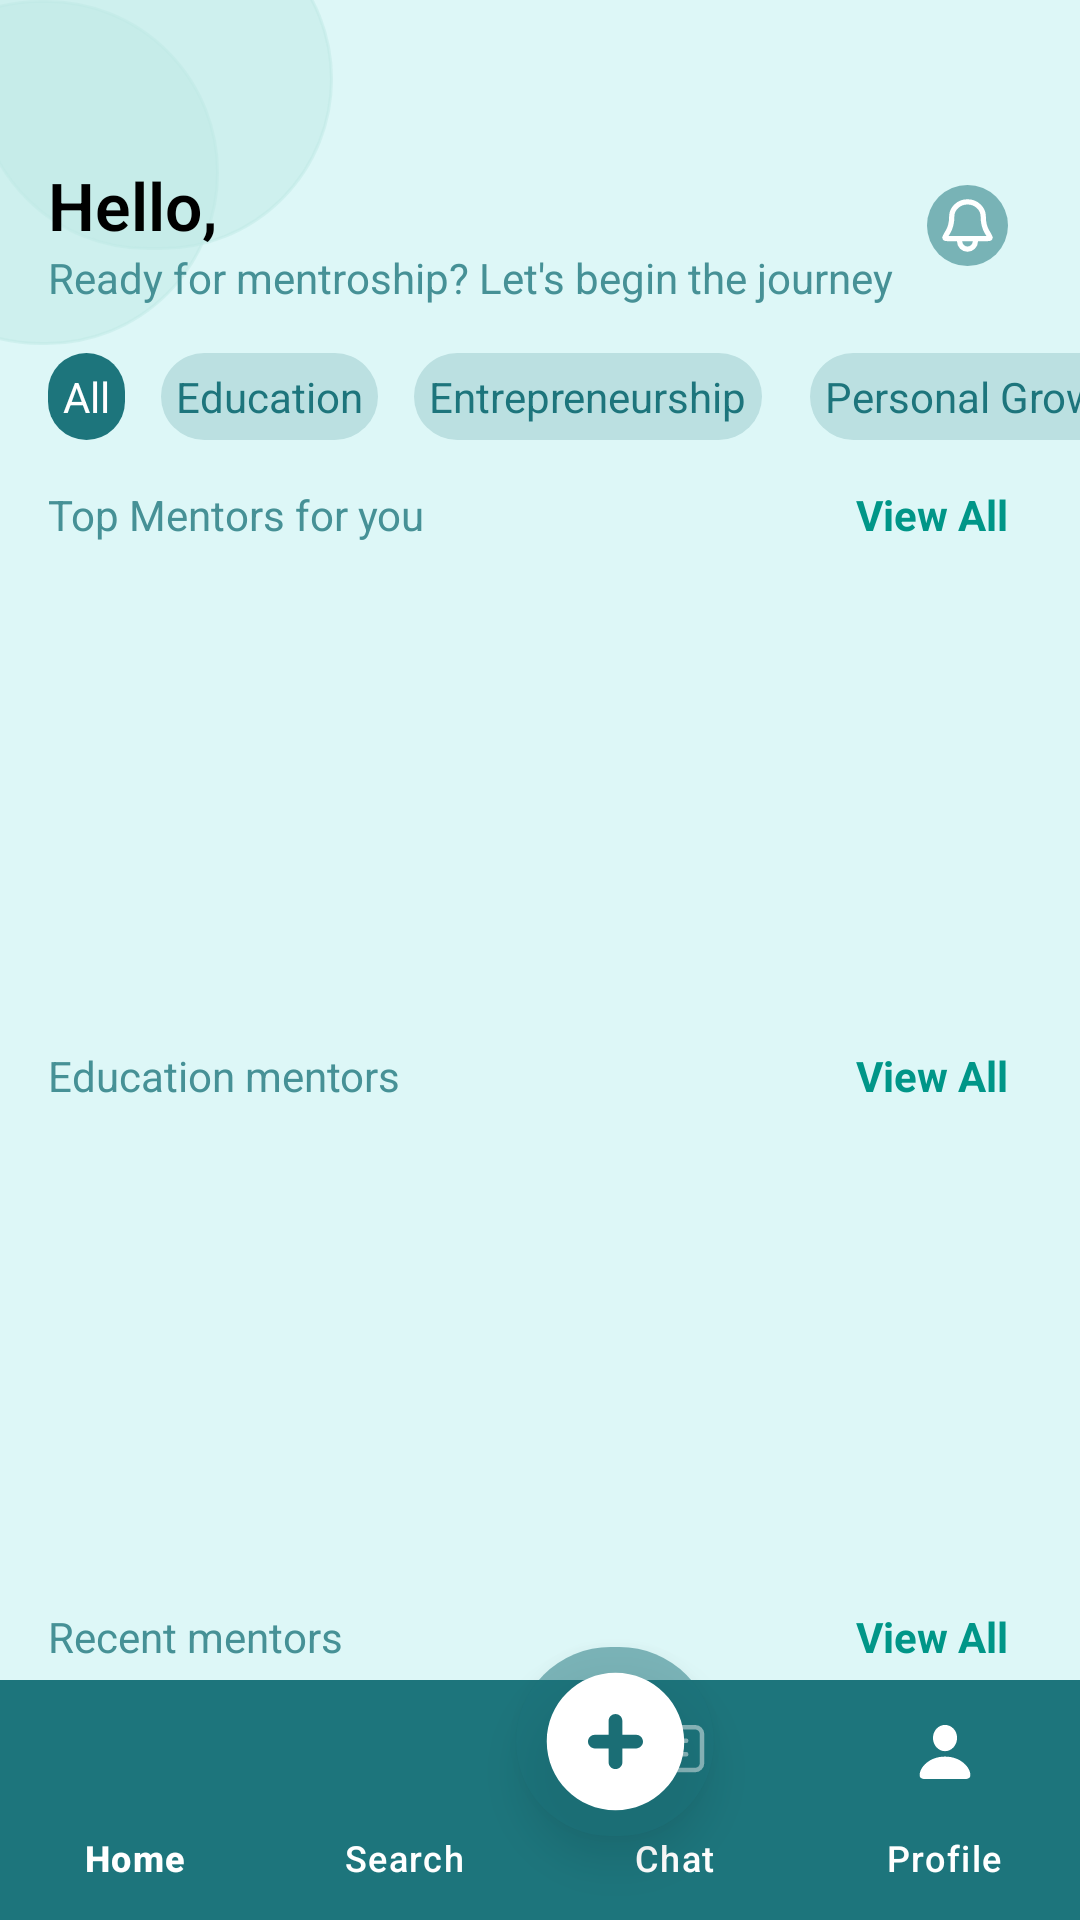

Icon bounding boxes for this 1080*1920 phone screenshot, format [x1=x1, y1=y1, x2=x2, y2=y2]:
bell: [x1=927, y1=185, x2=1008, y2=266]
plus: [x1=516, y1=1647, x2=714, y2=1811]
